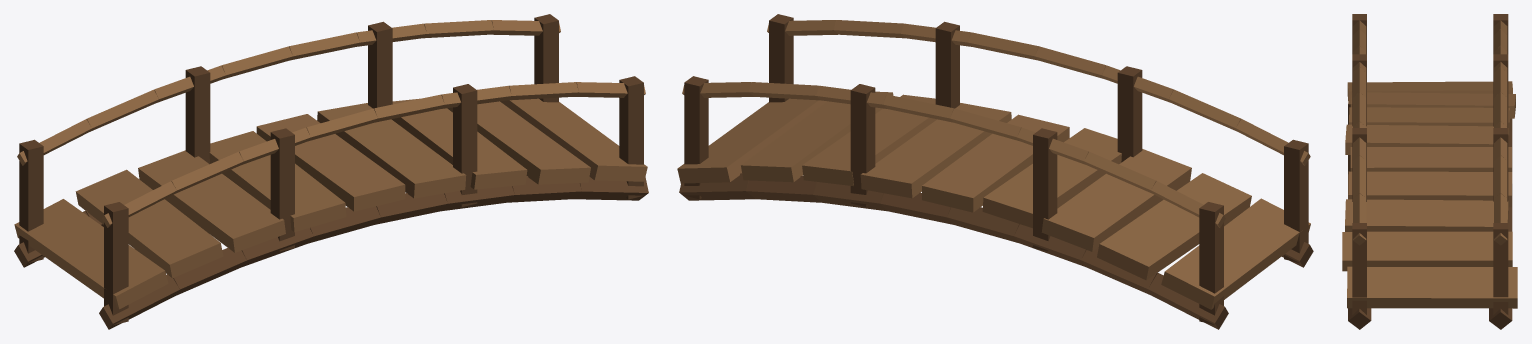
File: deco_bridge.glb
3 renders of one model, left to right at view 1: azimuth 30°, elevation 25°; view 2: azimuth 150°, elevation 25°; view 3: azimuth 270°, elevation 25°, orthographic. The views are drawn at different scales.
Parts seen in each view (by area): view 1: deco_bridge_mesh; view 2: deco_bridge_mesh; view 3: deco_bridge_mesh.
Boxes of the visible parts, x1=… form: deco_bridge_mesh: x1=14, y1=14, x2=648, y2=329; deco_bridge_mesh: x1=677, y1=14, x2=1313, y2=329; deco_bridge_mesh: x1=1342, y1=14, x2=1517, y2=329.
Size of the model in its own units: 0.6269 by 0.1736 by 0.2115.
